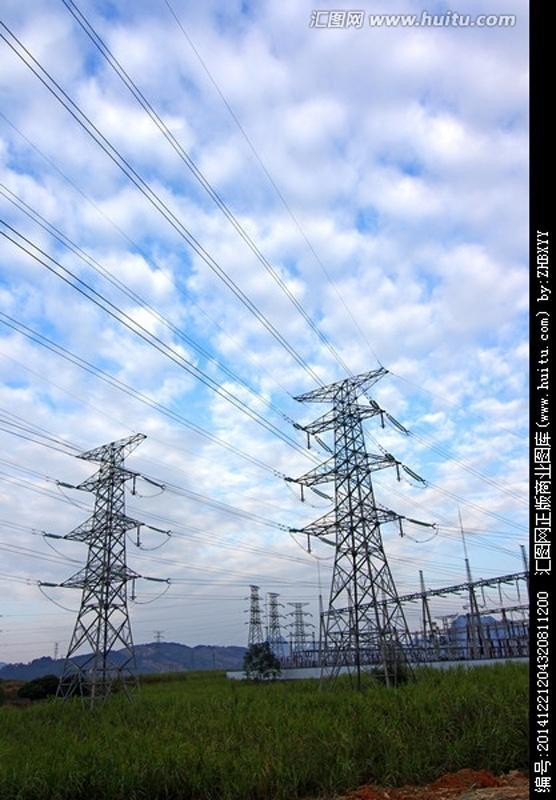power_tower: (287, 364, 436, 682), (33, 417, 176, 714), (240, 574, 266, 673), (286, 592, 318, 666), (266, 579, 282, 671)
